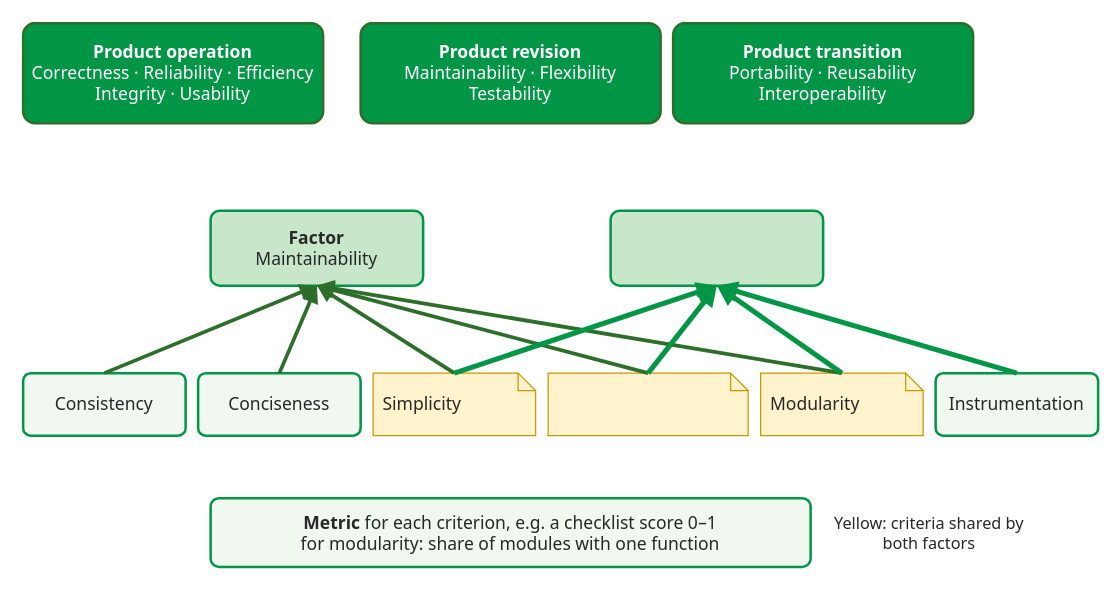
Image size: 1120x589. Some labels were removed from this diagram. The centre of each missing label's shape, as x and y in pixels:
"Factor Testability" goes at point (716, 247).
"Self-descriptiveness" goes at point (647, 404).
